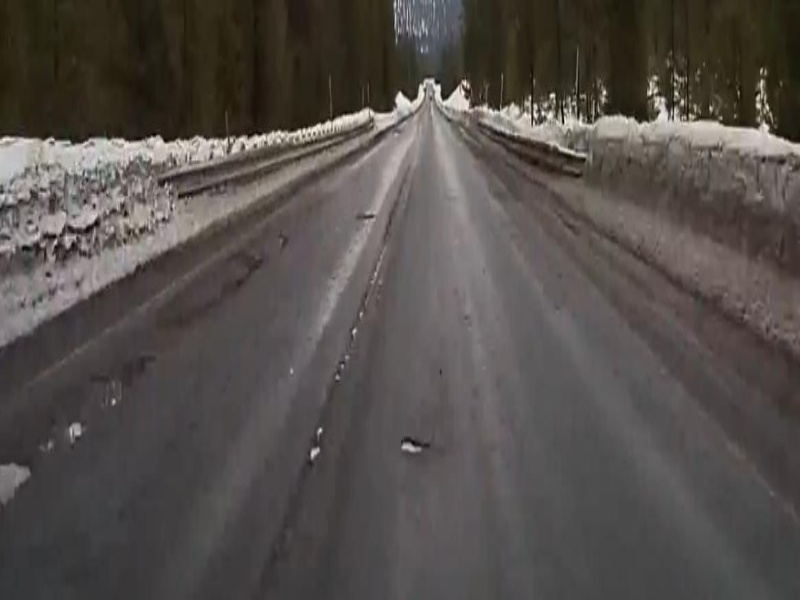pothole: (396, 434, 432, 460)
